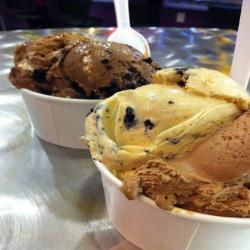icecream: (101, 75, 250, 240), (12, 30, 150, 149)
